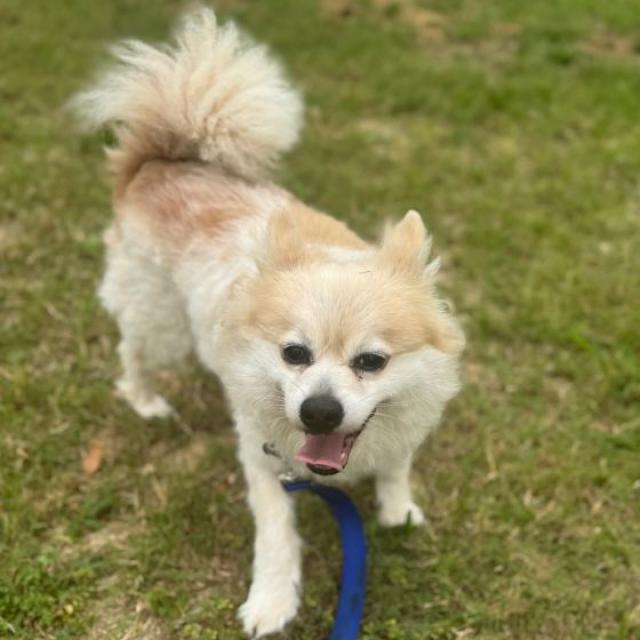pomeranian_dog: (214, 215, 463, 490)
